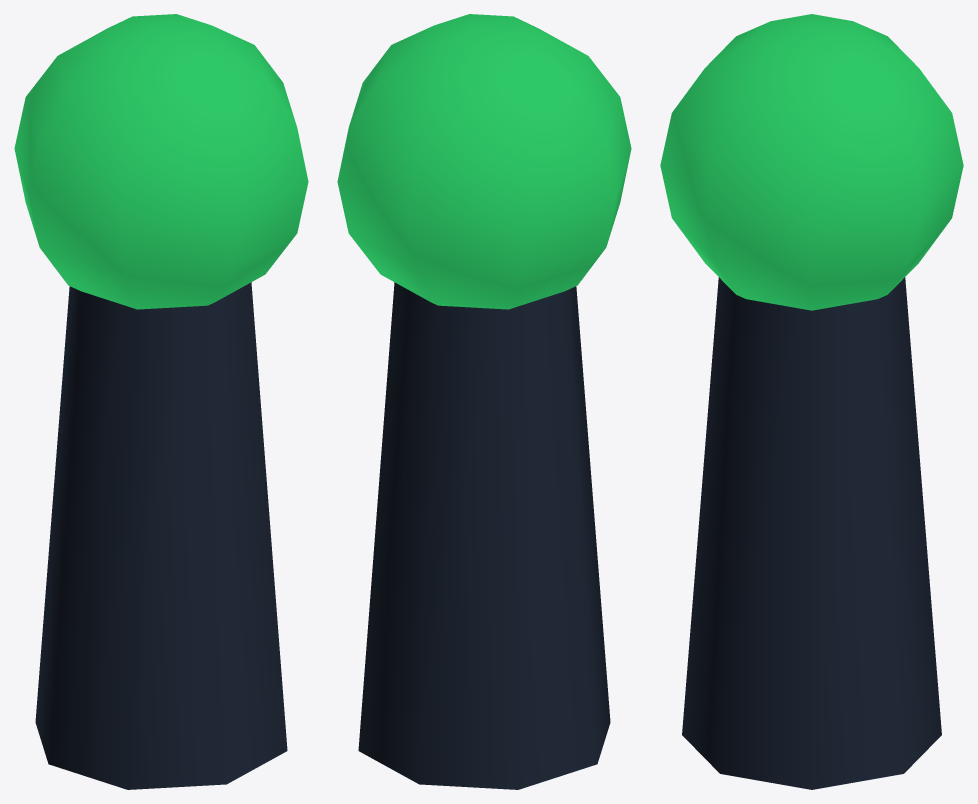
File: runway_light.glb
3 renders of one model, left to right at view 1: azimuth 30°, elevation 25°; view 2: azimuth 150°, elevation 25°; view 3: azimuth 270°, elevation 25°, orthographic.
Size of the model in its own units: 0.28 by 0.72 by 0.28.
